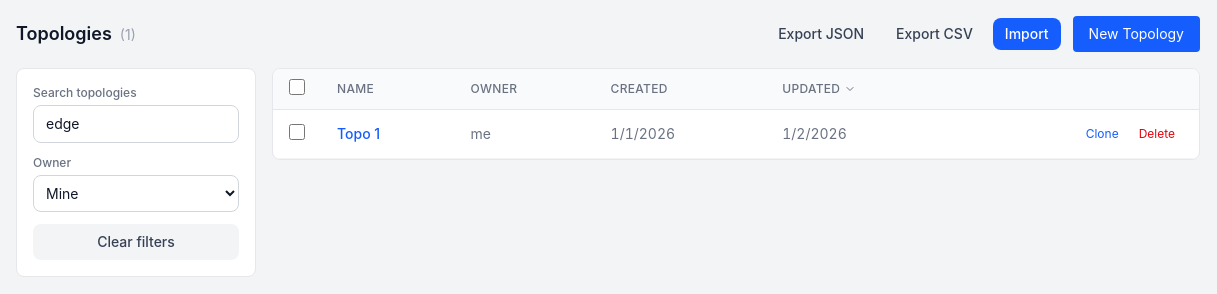
Test: search and Owner filter (issue #958) › Clear filters resets search and owner and persists the cleared state
Expected: the text "Topo 1" is shown, [321,110,455,158]
Click the button "Clear filters". click: (136, 242)
box: [33,224,239,260]
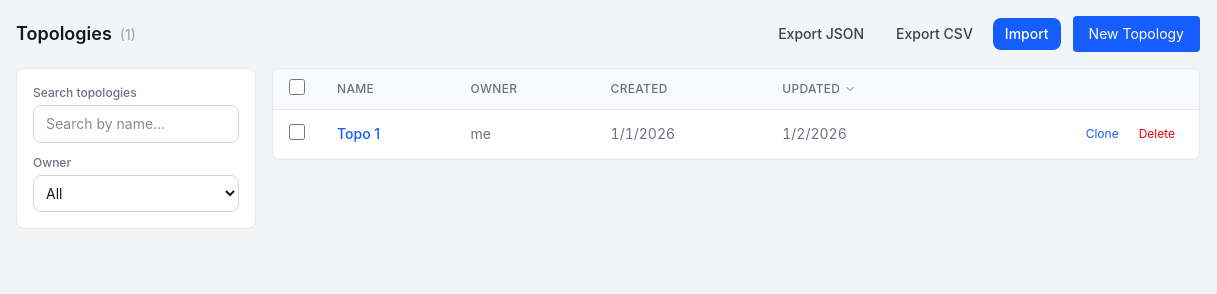
Now the field labelled "Search topologies" is empty, box [33,105,239,143]
